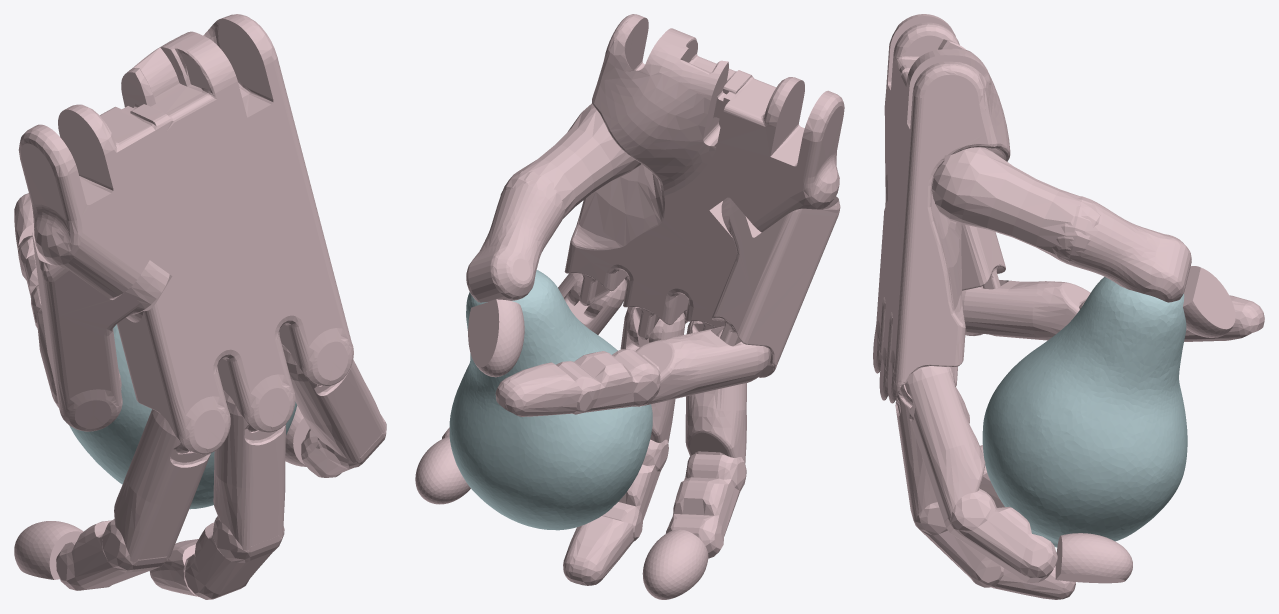
The model's file is grasp_5.glb.
The picture shows the model from 3 angles, left to right: view 1: azimuth 30°, elevation 25°; view 2: azimuth 150°, elevation 25°; view 3: azimuth 270°, elevation 25°; orthographic projection. The views are drawn at different scales.
Parts seen in each view (by area): view 1: world; view 2: world; view 3: world.
Boxes of the visible parts, x1,y1,x2,y2 form: world: [14, 14, 386, 599]; world: [415, 14, 844, 599]; world: [873, 14, 1264, 599].
Size of the model in its own units: 0.1279 by 0.1889 by 0.1255.
